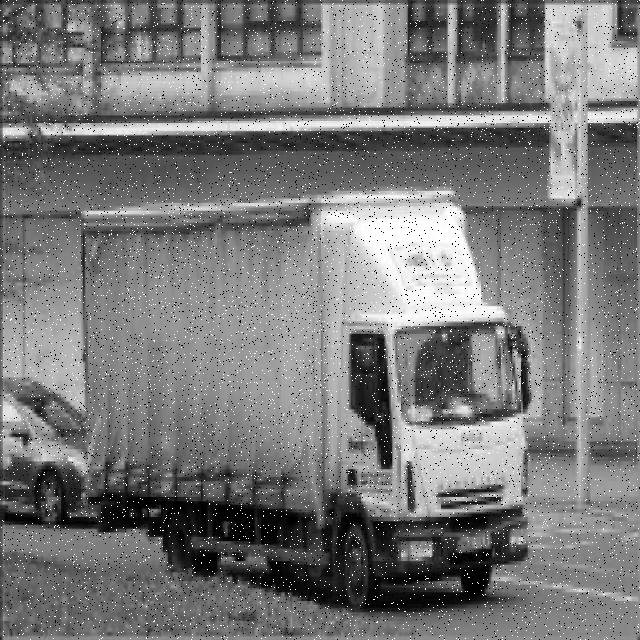Box Truck: (81, 192, 531, 613)
